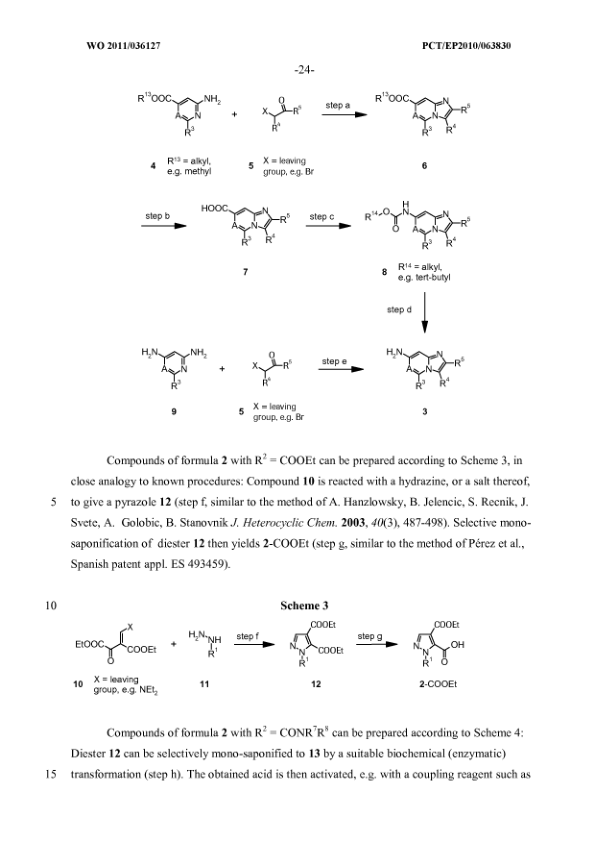compound-structure: (130, 67, 226, 143), (360, 194, 474, 253), (192, 190, 292, 253), (368, 87, 474, 138), (71, 616, 157, 676), (387, 338, 468, 394), (132, 336, 211, 393), (412, 615, 475, 678), (285, 614, 344, 679), (239, 346, 300, 393), (254, 96, 309, 138), (181, 624, 223, 664)
reaction: (92, 63, 562, 439), (67, 600, 519, 708)
reaction-arrow: (382, 285, 436, 334), (132, 205, 190, 238), (314, 351, 368, 381), (319, 97, 368, 127), (302, 208, 351, 236), (353, 629, 399, 650), (230, 631, 275, 652)
